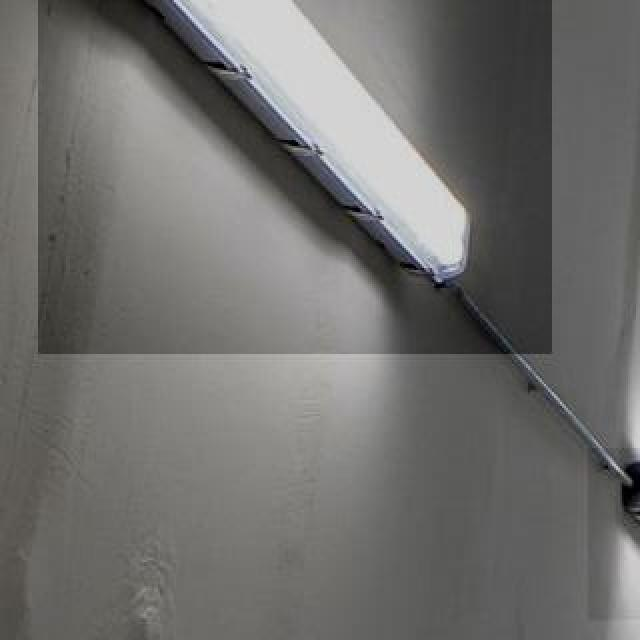fluorescent tube: (104, 0, 510, 354), (608, 426, 640, 622)
